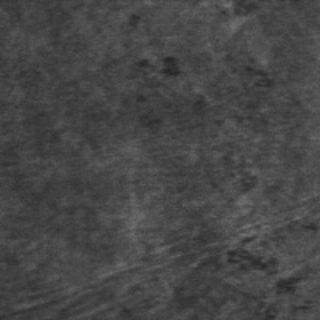rolled pit: (178, 70, 284, 270), (223, 217, 315, 316)
